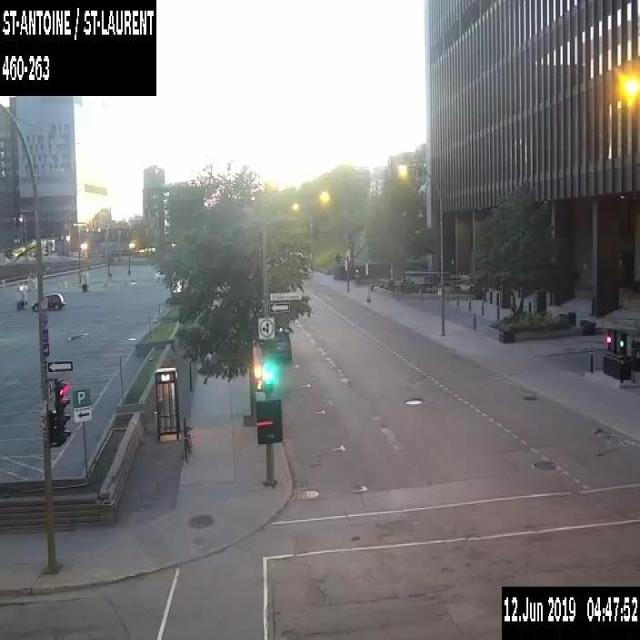vehicle: (268, 326, 292, 361), (30, 291, 65, 310)
